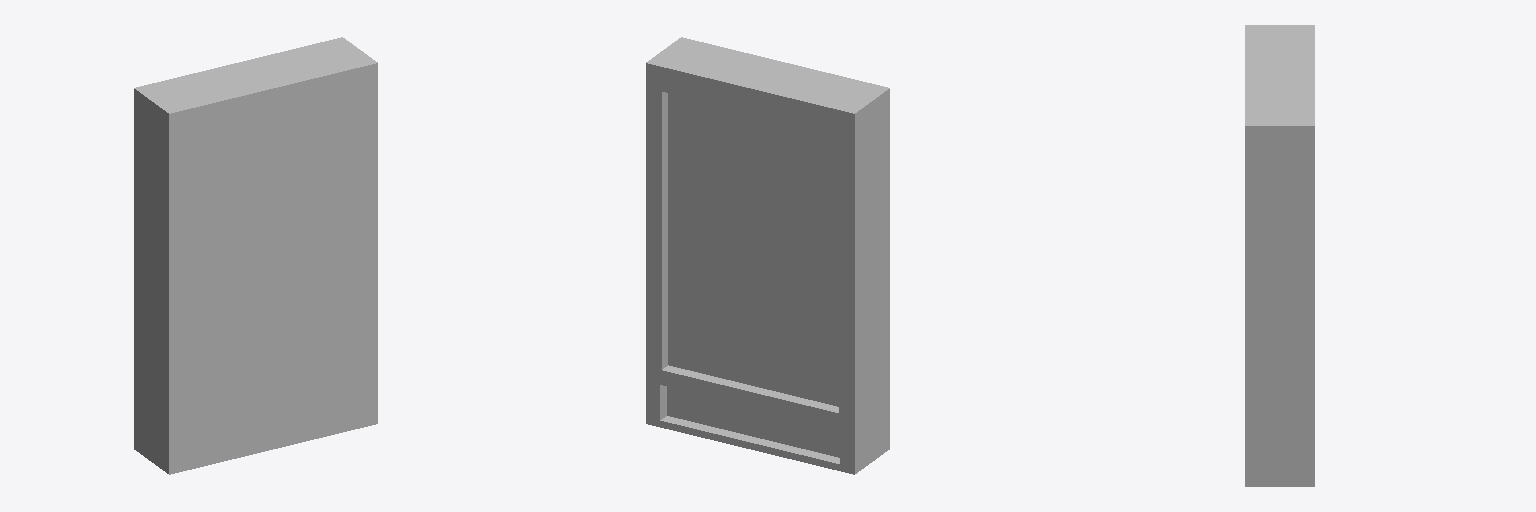
The model's file is movie-poster.obj.
3 renders of one model, left to right at view 1: azimuth 30°, elevation 25°; view 2: azimuth 150°, elevation 25°; view 3: azimuth 270°, elevation 25°, orthographic.
Parts seen in each view (by area): view 1: Cube; view 2: Cube; view 3: Cube.
Part boxes in pixels (bbox=[...]): Cube: bbox=[134, 37, 377, 474]; Cube: bbox=[646, 37, 889, 474]; Cube: bbox=[1245, 25, 1314, 486].
Bounding box in the file's own units: 2 × 3.3 × 0.5863.